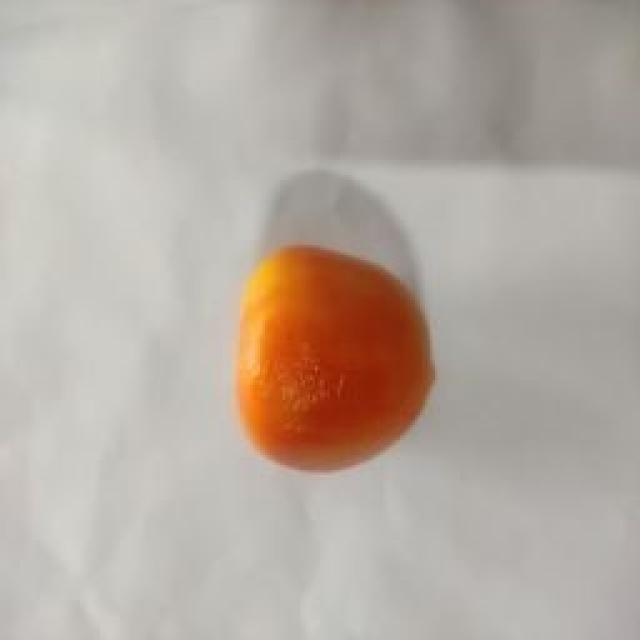Ripe: (225, 241, 445, 477)
